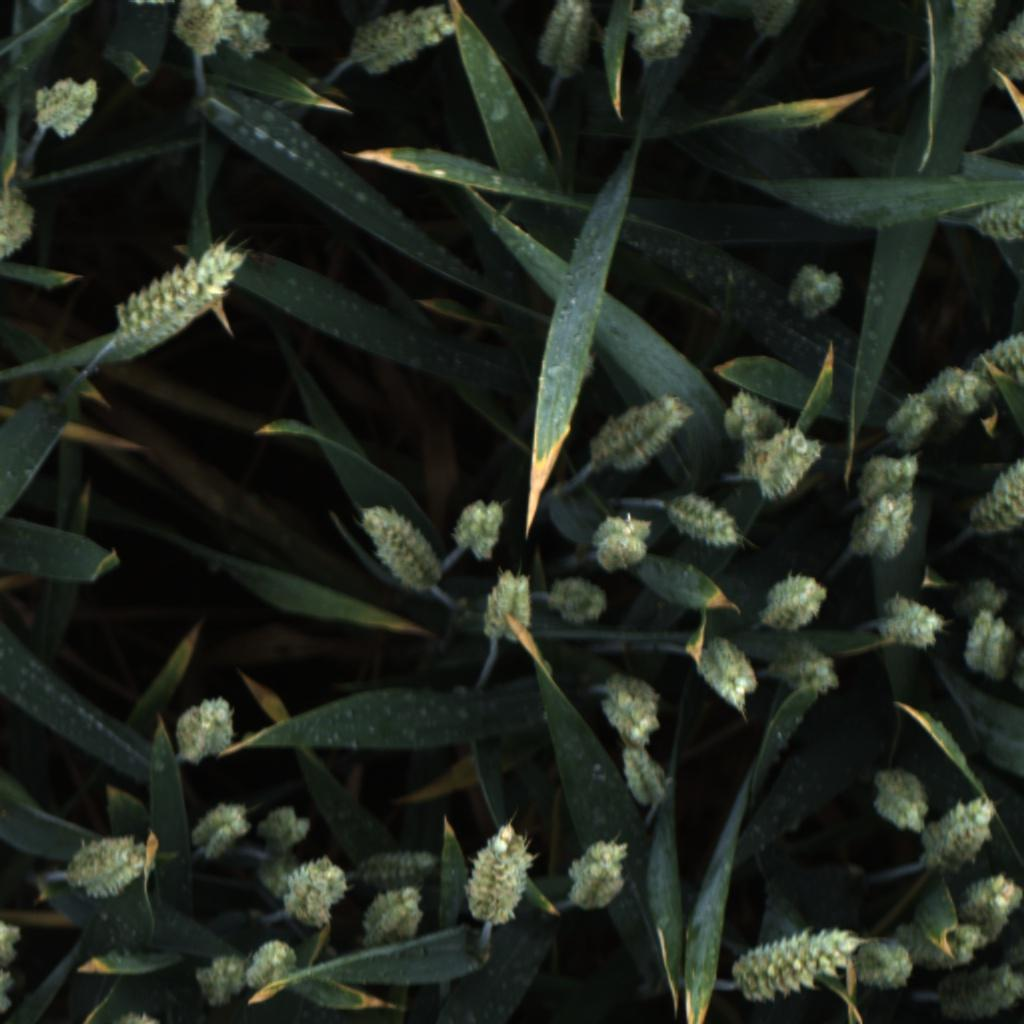0-0: (107, 238, 251, 352), (725, 913, 856, 1009), (586, 390, 697, 477), (349, 0, 465, 82), (347, 498, 443, 596), (454, 816, 533, 932), (943, 864, 1024, 971), (918, 780, 1005, 877), (744, 419, 827, 501), (556, 832, 636, 917), (273, 846, 353, 928), (843, 450, 940, 516), (688, 632, 762, 718), (64, 829, 146, 906), (621, 1, 701, 77), (591, 668, 667, 746), (353, 882, 430, 958), (959, 448, 1024, 538), (171, 690, 243, 771), (765, 634, 847, 705), (581, 502, 657, 574), (845, 498, 917, 574), (868, 589, 948, 657), (183, 797, 259, 868), (530, 0, 594, 84), (26, 76, 105, 143), (351, 841, 446, 896), (781, 256, 854, 327), (446, 488, 516, 562), (917, 352, 993, 420), (476, 565, 536, 651), (669, 490, 748, 554), (866, 764, 934, 838), (609, 744, 680, 813), (955, 611, 1023, 683), (756, 566, 832, 629), (872, 387, 943, 454), (183, 946, 252, 1013), (540, 573, 613, 634), (855, 923, 916, 996), (942, 0, 1001, 75), (172, 0, 239, 60), (249, 799, 315, 859), (241, 934, 300, 1001), (972, 6, 1024, 81), (717, 378, 775, 445), (958, 565, 1019, 628), (222, 4, 280, 68), (976, 317, 1024, 387), (969, 184, 1024, 244), (0, 187, 40, 262), (746, 0, 803, 45), (0, 920, 23, 1019)
